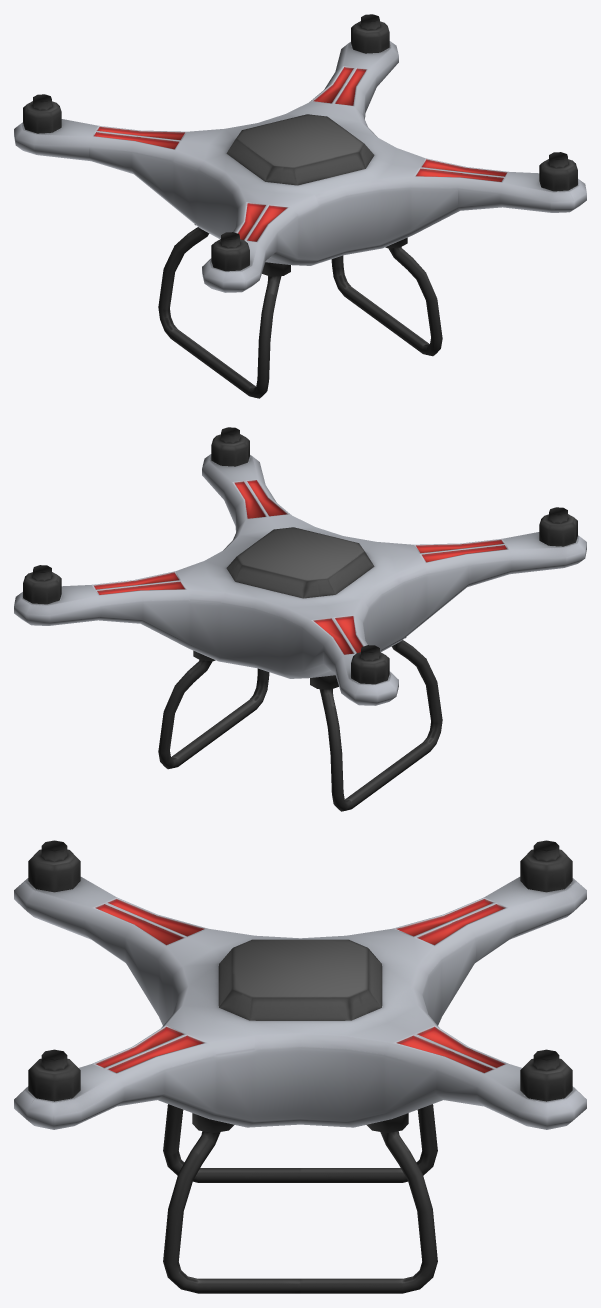
The model's file is DroneUvMapped.fbx.
3 views of the same model, one above another, from view 1: azimuth 30°, elevation 25°; view 2: azimuth 150°, elevation 25°; view 3: azimuth 270°, elevation 25° (orthographic). The views are drawn at different scales.
Visible parts, largest first — view 1: MainBody; view 2: MainBody; view 3: MainBody.
Part boxes in pixels (x1,y1,x2,y2): MainBody: (14,14,586,398); MainBody: (14,427,586,811); MainBody: (14,840,586,1293).
Size of the model in its own units: 111 by 61.45 by 111.
1 material, 1 textured.
